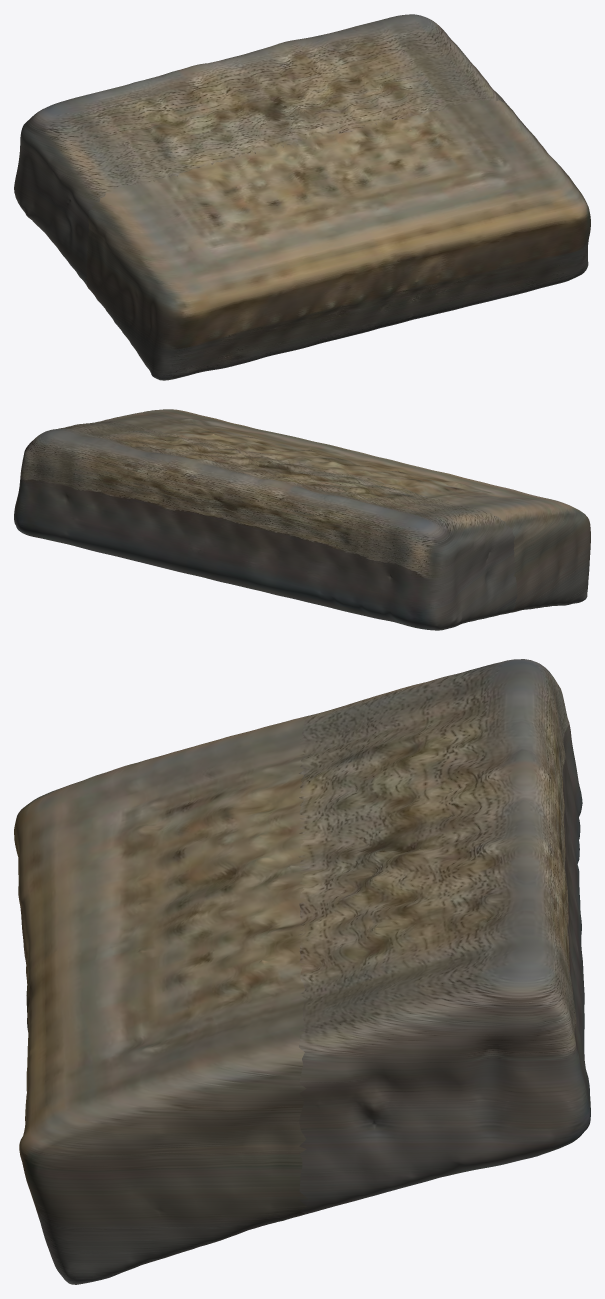
File: kfl-2304.glb
3 views of the same model, one above another, from view 1: azimuth 30°, elevation 25°; view 2: azimuth 150°, elevation 25°; view 3: azimuth 270°, elevation 25° (orthographic). The views are drawn at different scales.
Visible parts, largest first — view 1: geometry_0; view 2: geometry_0; view 3: geometry_0.
Boxes of the visible parts, left/top/right/bottom form: geometry_0: left=14, top=14, right=590, bottom=380; geometry_0: left=14, top=409, right=590, bottom=630; geometry_0: left=14, top=659, right=590, bottom=1284.
Size of the model in its own units: 0.9906 by 0.384 by 0.6569.
1 material, 1 textured.
